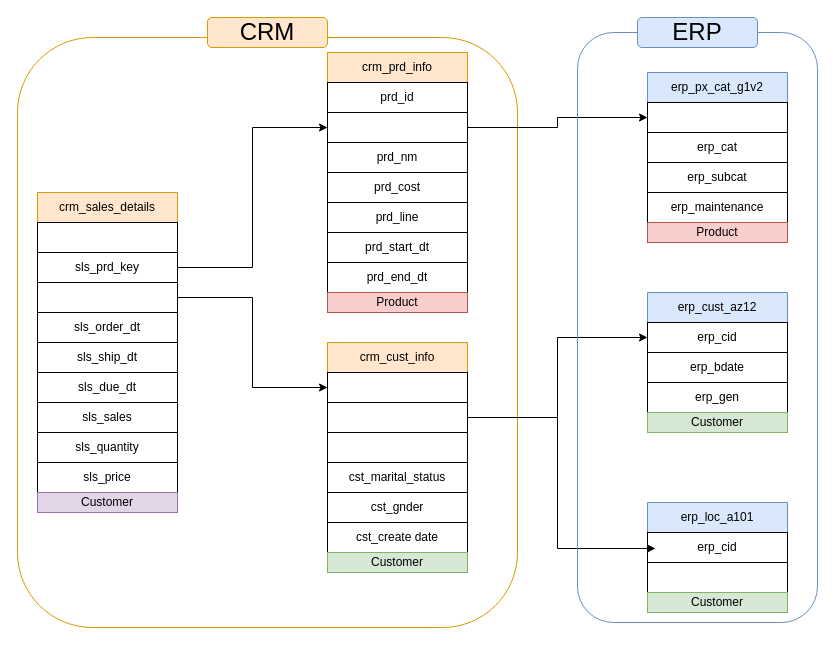
The diagram is 835 pixels wide and 645 high, and some of its shapes have lost their labels. Here are the shapes that lost their labels. From the top down, the centre of each, then its label:
pixel 397 127: prd_key
pixel 717 117: erp_id
pixel 107 237: sls_ord_num
pixel 107 297: sls_cust_id
pixel 397 387: cst_id
pixel 397 417: cst_key
pixel 397 447: cst_firstname
pixel 717 577: erp_cntry
